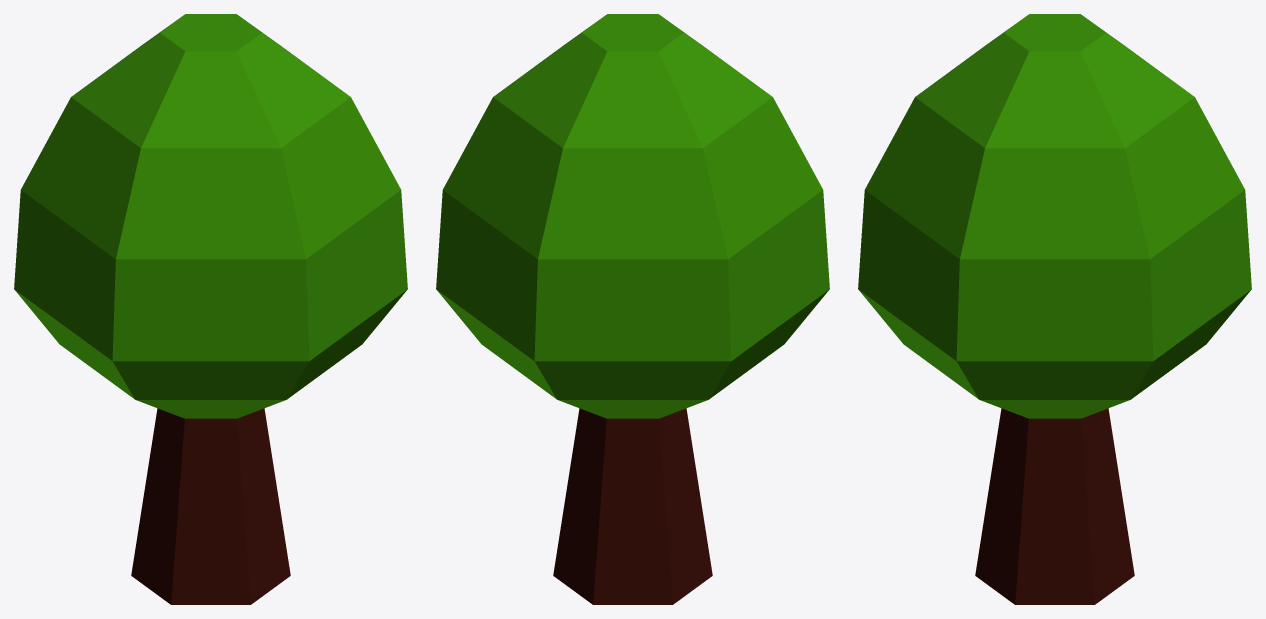
The model's file is tree2.gltf.
3 views of the same model, side by side, from view 1: azimuth 30°, elevation 25°; view 2: azimuth 150°, elevation 25°; view 3: azimuth 270°, elevation 25° (orthographic).
Visible parts, largest first — view 1: tree2; view 2: tree2; view 3: tree2.
Boxes of the visible parts, x1=… form: tree2: x1=14, y1=14, x2=407, y2=604; tree2: x1=436, y1=14, x2=829, y2=604; tree2: x1=858, y1=14, x2=1251, y2=604.
Bounding box in the file's own units: 4.27 × 7.51 × 4.94.
2 materials, 2 textured.
